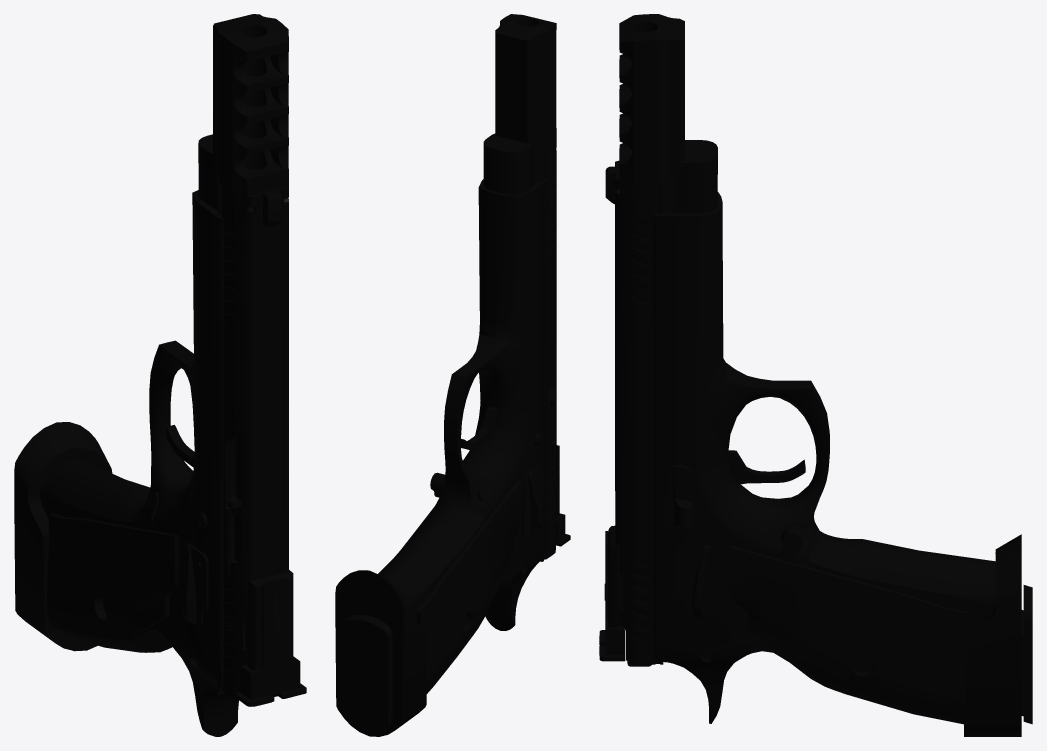
3 views of the same model, side by side, from view 1: azimuth 30°, elevation 25°; view 2: azimuth 150°, elevation 25°; view 3: azimuth 270°, elevation 25° (orthographic). The views are drawn at different scales.
Parts seen in each view (by area): view 1: asset_CZ75.001; view 2: asset_CZ75.001; view 3: asset_CZ75.001.
Part boxes in pixels (left/top/right/bottom): asset_CZ75.001: left=14, top=14, right=306, bottom=736; asset_CZ75.001: left=335, top=14, right=570, bottom=736; asset_CZ75.001: left=599, top=14, right=1032, bottom=736.
Bounding box in the file's own units: 0.0152 × 0.1272 × 0.0707.
